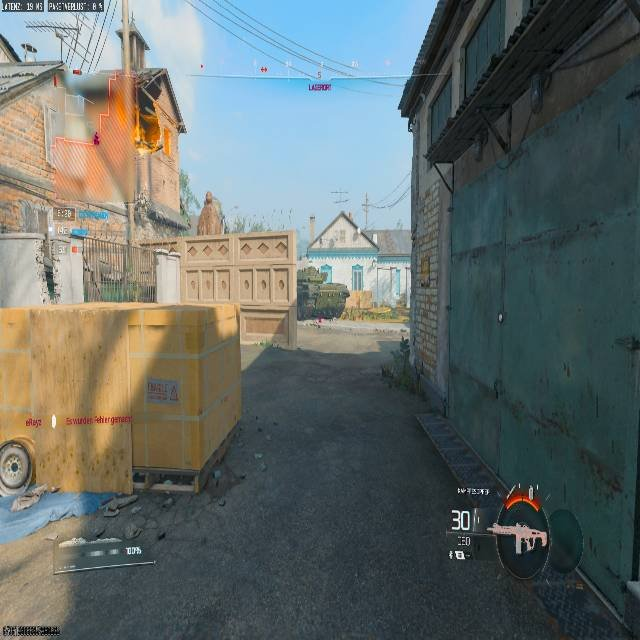player: (39, 253, 58, 301)
